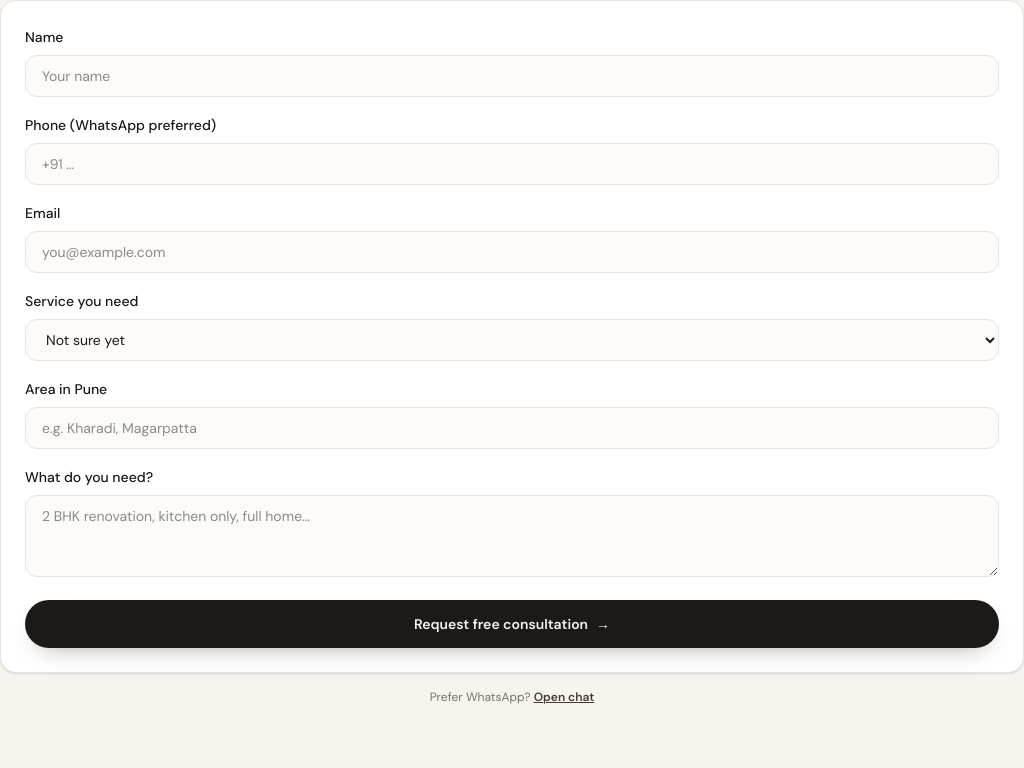
Test: LeadForm › shows SMTP setup hint when API accepts but email was not sent
This screenshot has width=1024, height=768.
Type "No Mail" into the field labelled "Name" at (512, 76), box [25,55,999,97]
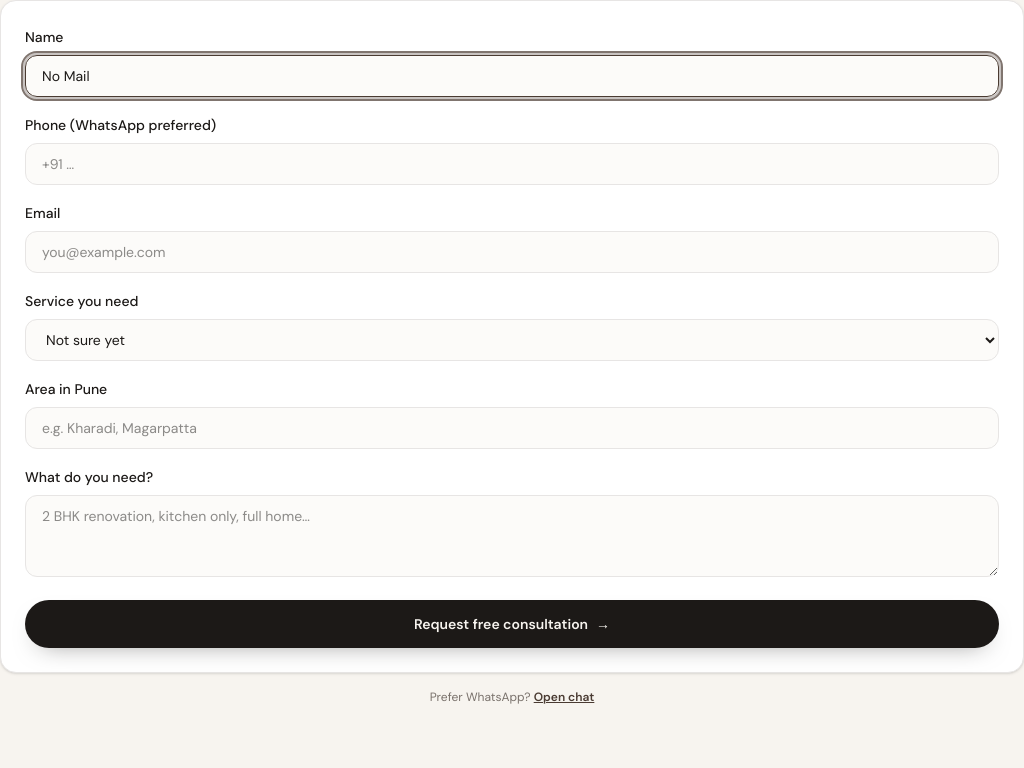
Type "9000000001" into the field labelled "Phone (WhatsApp preferred)" at (512, 164), box [25,143,999,185]
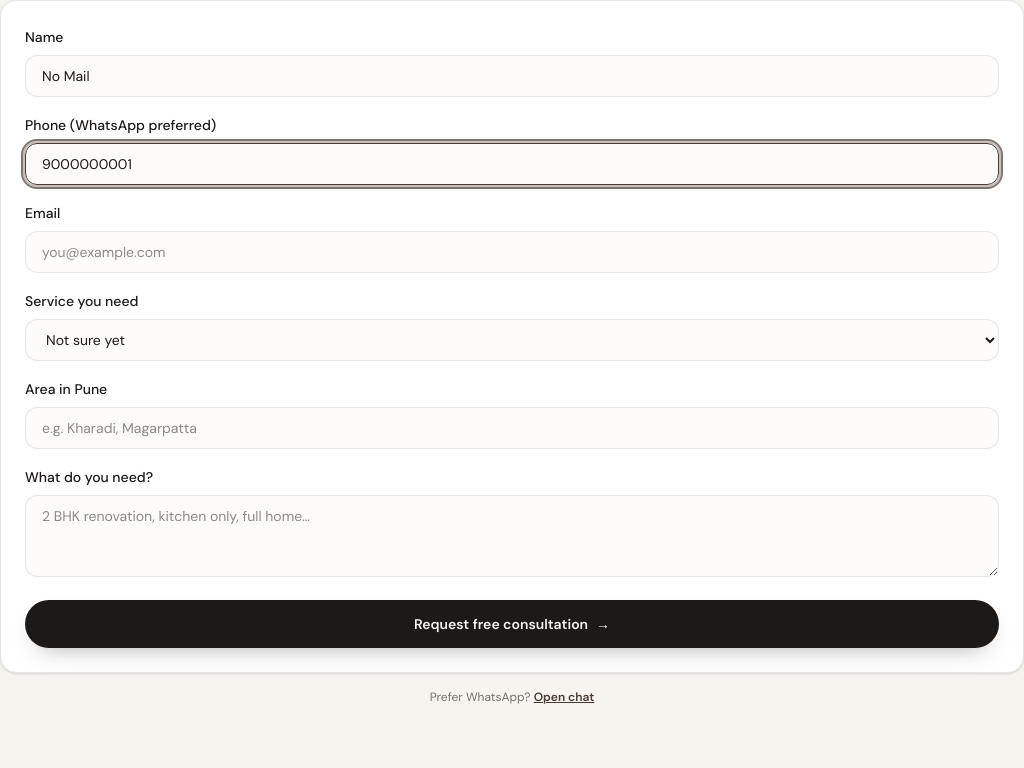
Click the button "Request free consultation →" at (512, 624), box [25,600,999,648]
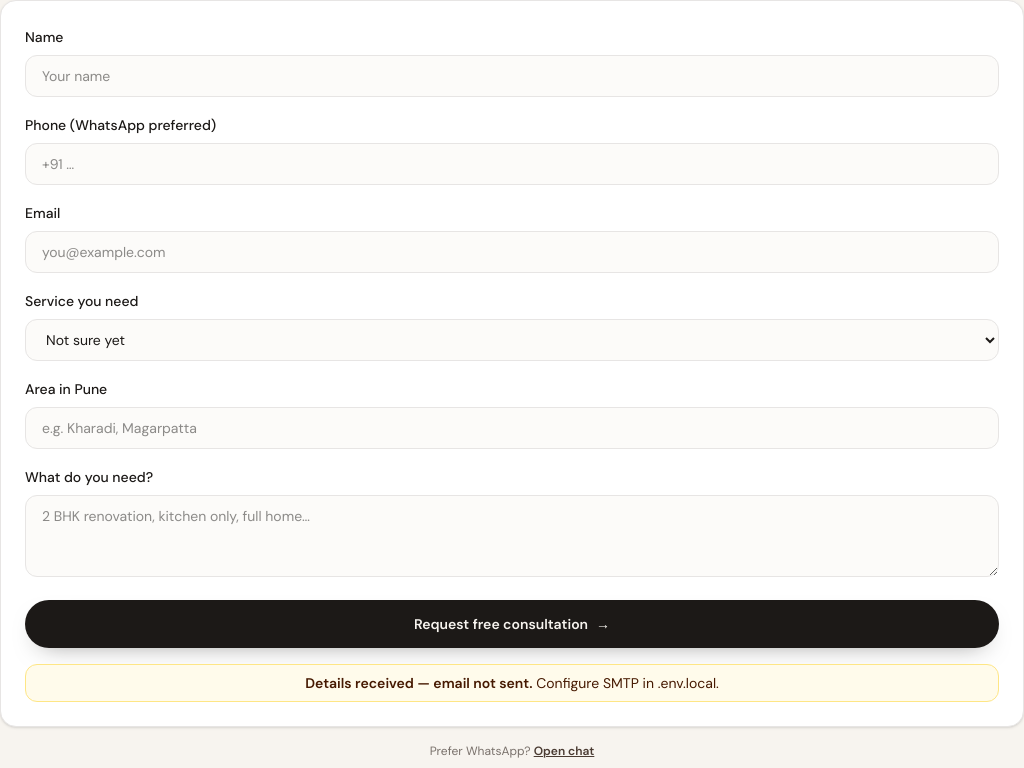
Expected: the message shows "email not sent", [305,674,532,692]
Expected: the message shows "Configure SMTP", [536,674,719,692]
